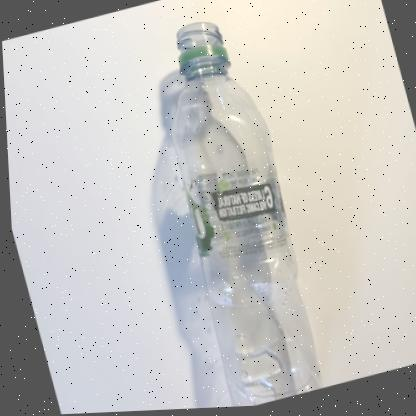Plastic: (169, 22, 317, 409)
